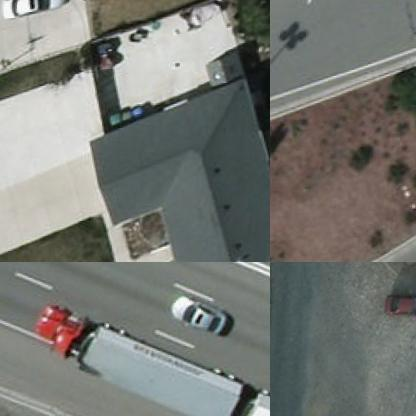car: (169, 292, 234, 339), (4, 0, 74, 27), (387, 291, 415, 327), (270, 288, 279, 340)
truck: (16, 285, 269, 415)
